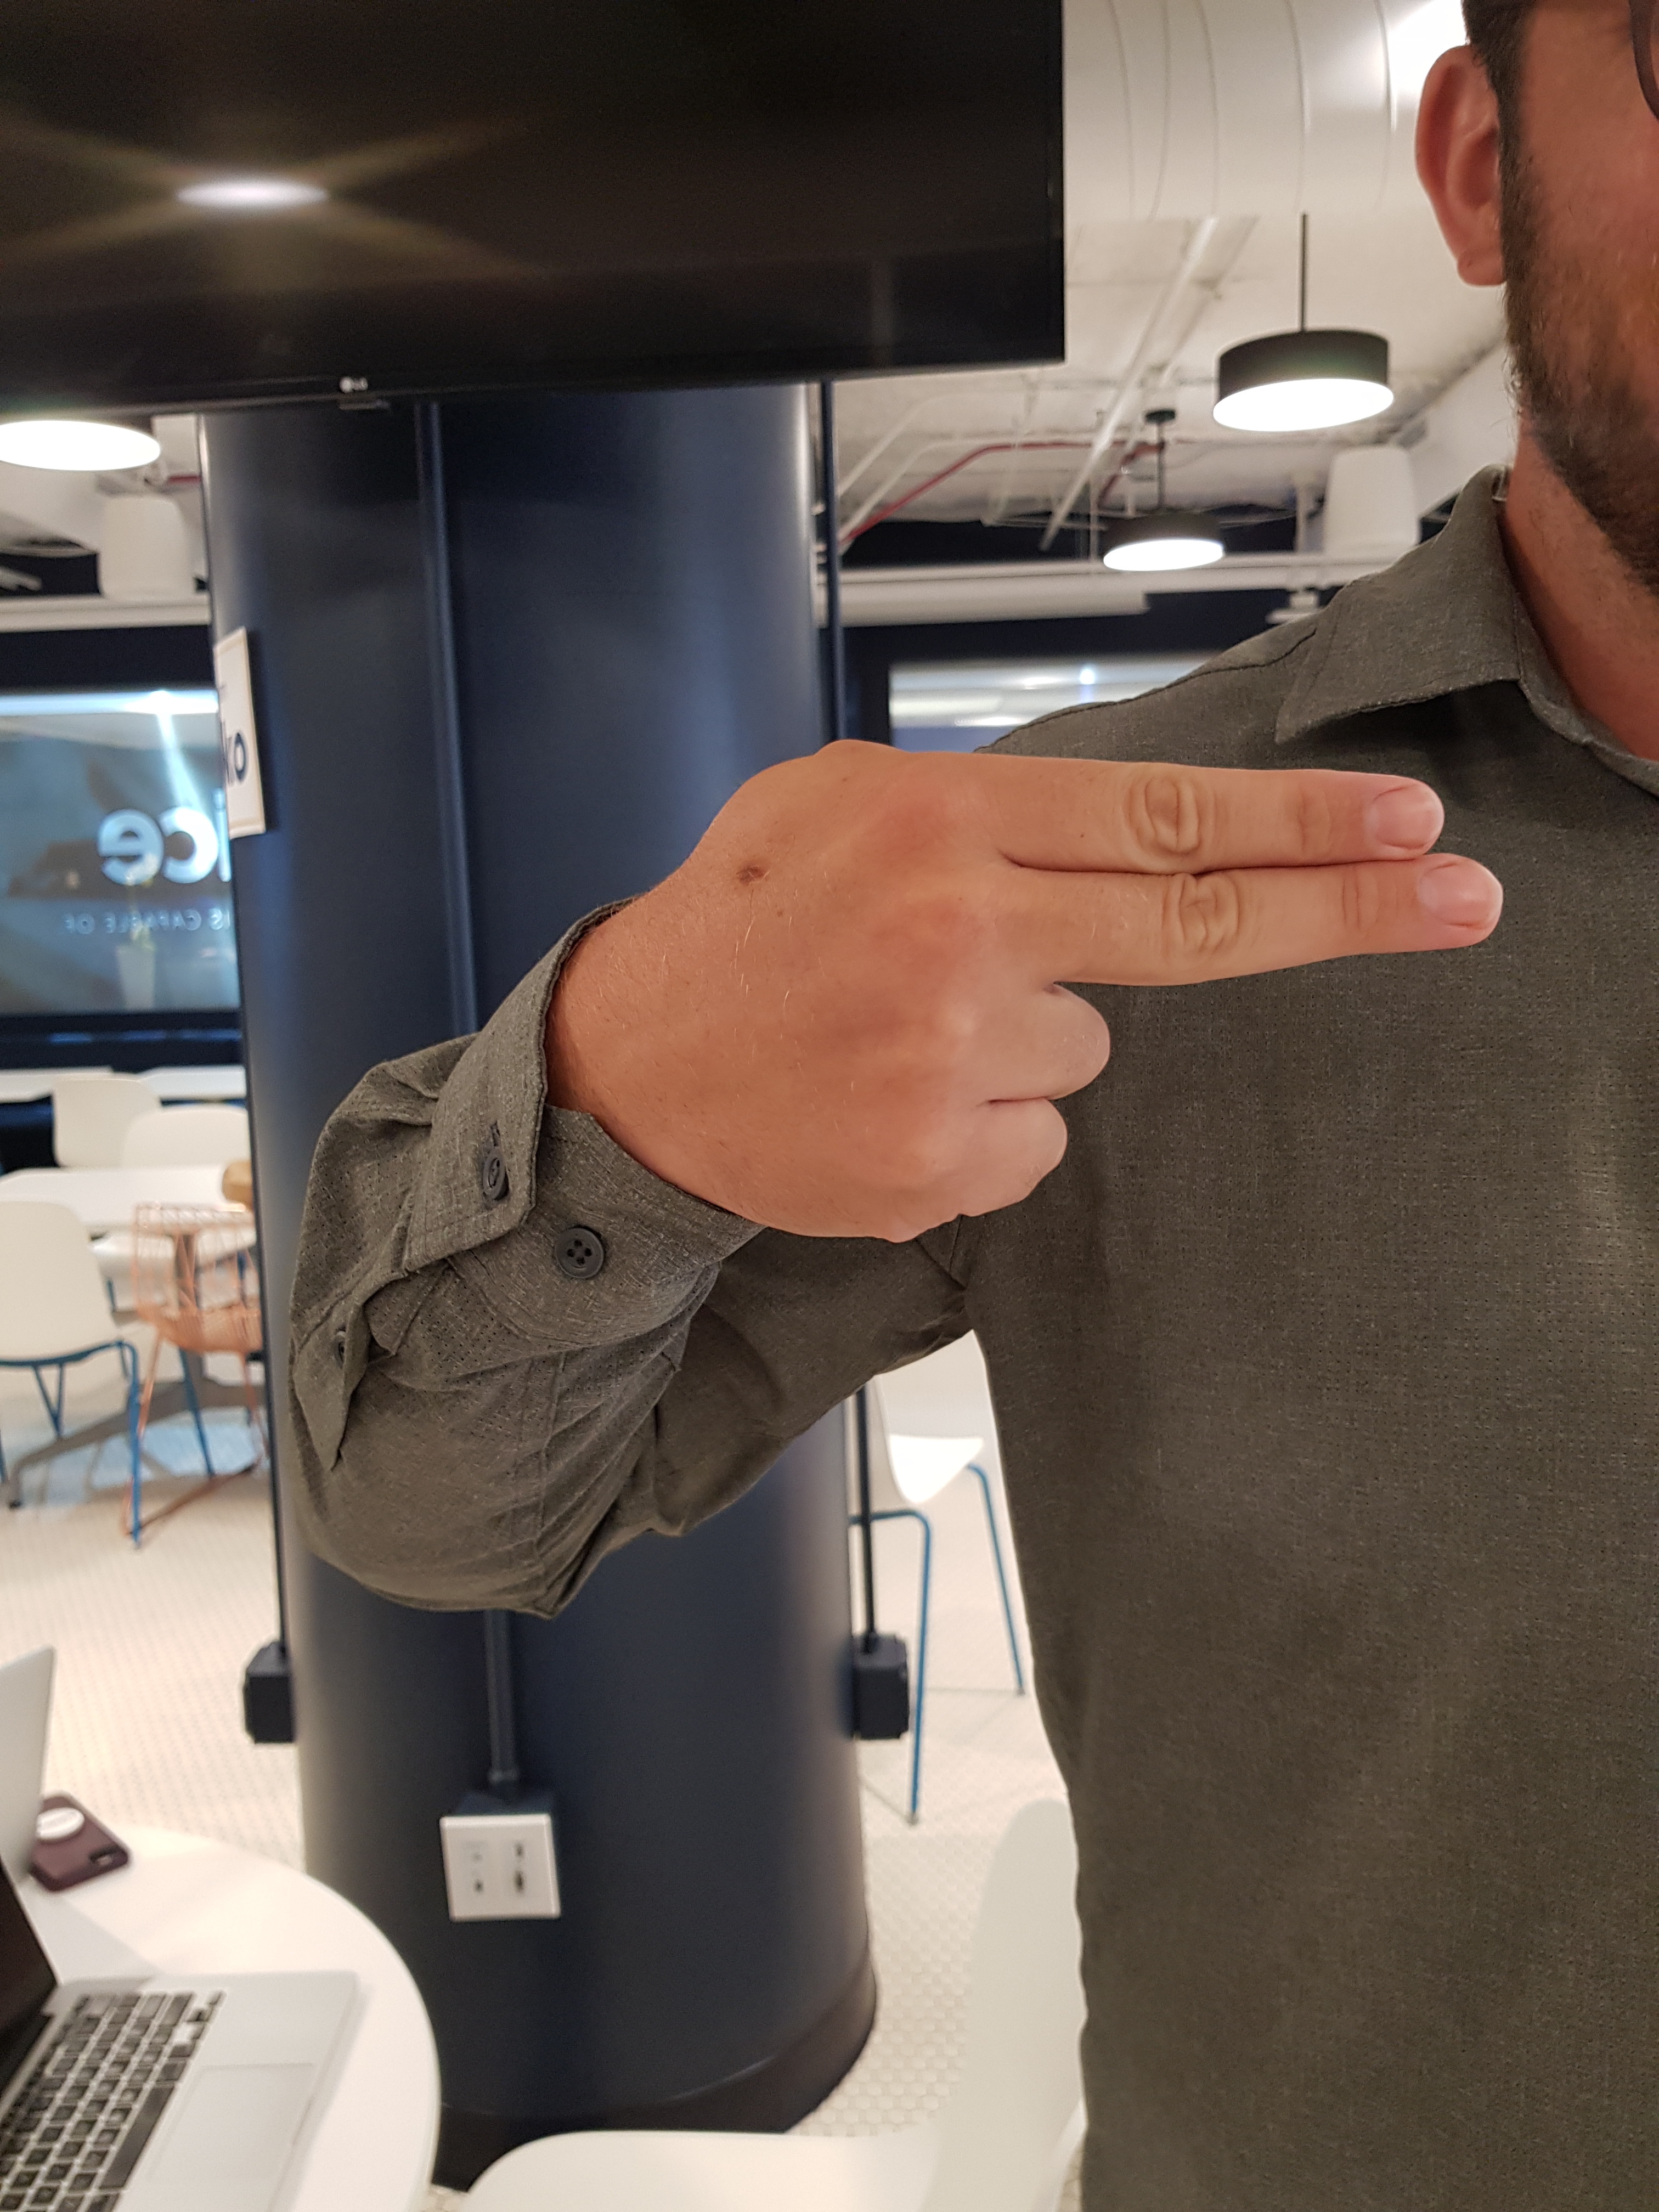h: (491, 688, 1534, 1259)
